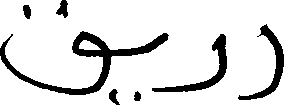ر: (181, 32, 227, 92), (256, 21, 281, 97)
ق: (0, 0, 110, 101)
ي: (110, 30, 169, 104)
